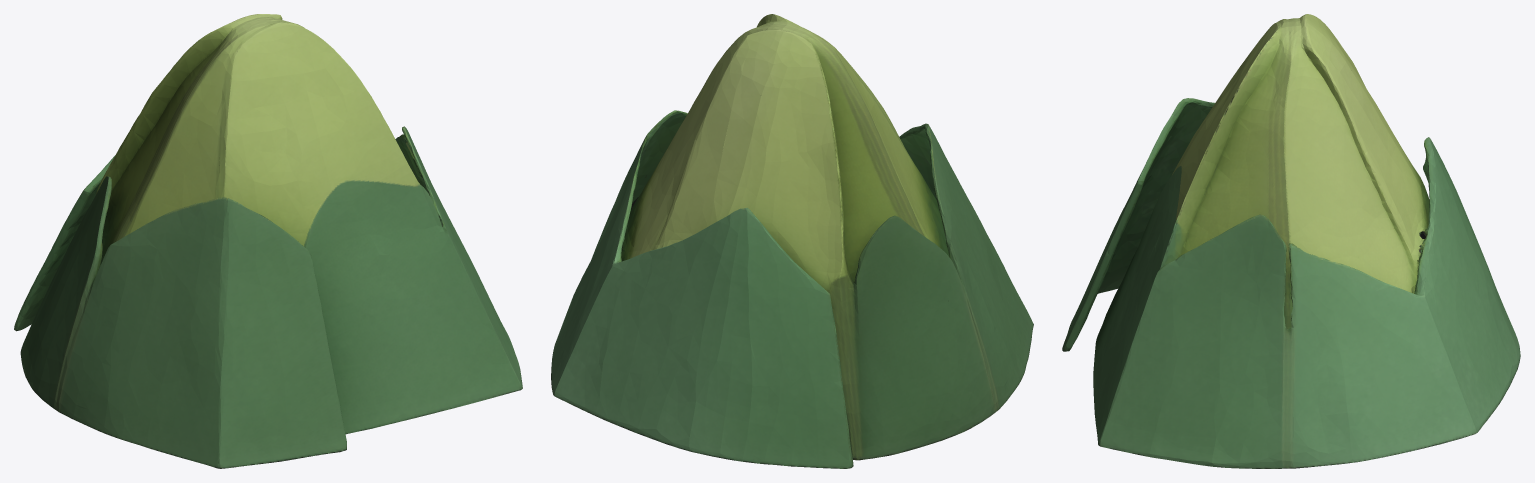
File: earth.glb
3 renders of one model, left to right at view 1: azimuth 30°, elevation 25°; view 2: azimuth 150°, elevation 25°; view 3: azimuth 270°, elevation 25°, orthographic.
Parts seen in each view (by area): view 1: geometry_0; view 2: geometry_0; view 3: geometry_0.
Boxes of the visible parts, <box> form: geometry_0: <box>14,14,522,468</box>; geometry_0: <box>551,14,1033,468</box>; geometry_0: <box>1062,14,1520,468</box>.
Bounding box in the file's own units: 1 × 0.776 × 0.9424.
Materials: 1 (1 with a texture image).
